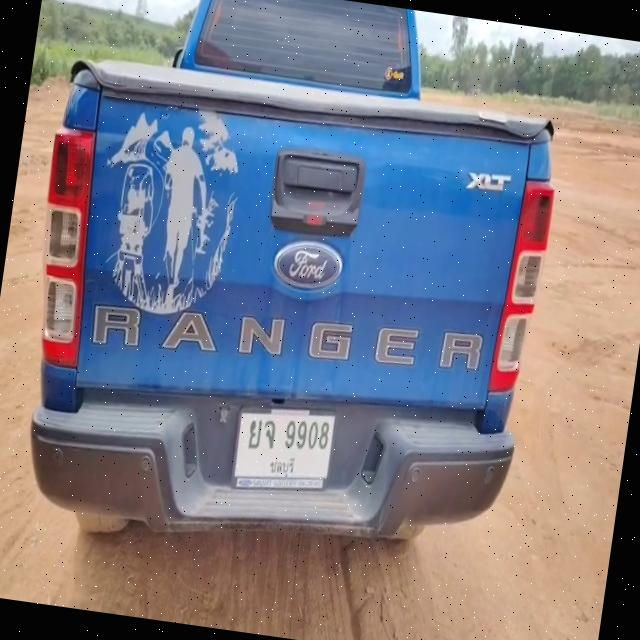Digit: (283, 416, 332, 454)
Licenseplate: (228, 397, 342, 498)
Provincename: (268, 452, 296, 478)
Thaichar: (248, 413, 278, 453)
